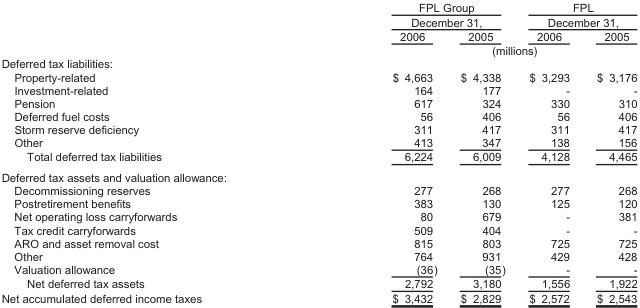table: (0, 0, 636, 304)
table column: (0, 0, 296, 304), (296, 0, 448, 304), (448, 0, 516, 304), (516, 0, 582, 304), (582, 0, 636, 304)
table column header: (0, 0, 636, 57)
table projected row header: (0, 166, 636, 183), (0, 57, 636, 70)
table row: (0, 0, 636, 28), (0, 149, 636, 166), (0, 166, 636, 183), (0, 28, 636, 43), (0, 43, 636, 57), (0, 135, 636, 149), (0, 196, 636, 210), (0, 262, 636, 276), (0, 276, 636, 290), (0, 290, 636, 304), (0, 57, 636, 70), (0, 70, 636, 83), (0, 83, 636, 96), (0, 96, 636, 109), (0, 109, 636, 122), (0, 122, 636, 135), (0, 183, 636, 196), (0, 210, 636, 223), (0, 223, 636, 236), (0, 236, 636, 249), (0, 249, 636, 262)
table spanning cell: (296, 0, 516, 28), (296, 43, 636, 57), (516, 0, 636, 28)
